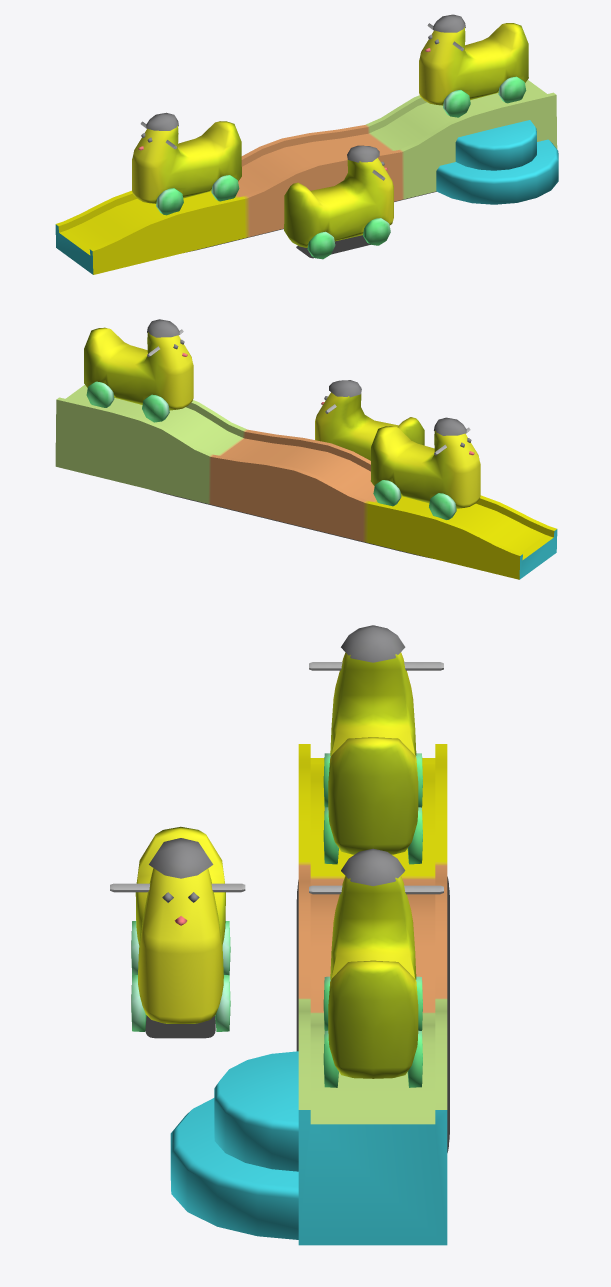
The model's file is three_section_pulley.DAE.
The picture shows the model from 3 angles, top to bottom: view 1: azimuth 30°, elevation 25°; view 2: azimuth 150°, elevation 25°; view 3: azimuth 270°, elevation 25°; orthographic projection. The views are drawn at different scales.
Parts seen in each view (by area): view 1: three_section_pulley, sd_three_section_pulley; view 2: three_section_pulley; view 3: three_section_pulley, sd_three_section_pulley.
Part boxes in pixels (left/top/right/bottom): three_section_pulley: left=55, top=14, right=558, bottom=274; sd_three_section_pulley: left=186, top=191, right=436, bottom=258; three_section_pulley: left=55, top=319, right=557, bottom=579; three_section_pulley: left=110, top=625, right=447, bottom=1245; sd_three_section_pulley: left=145, top=876, right=449, bottom=1152.
Bounding box in the file's own units: 3284 × 1066 × 923.
Materials: 2 (2 with a texture image).
